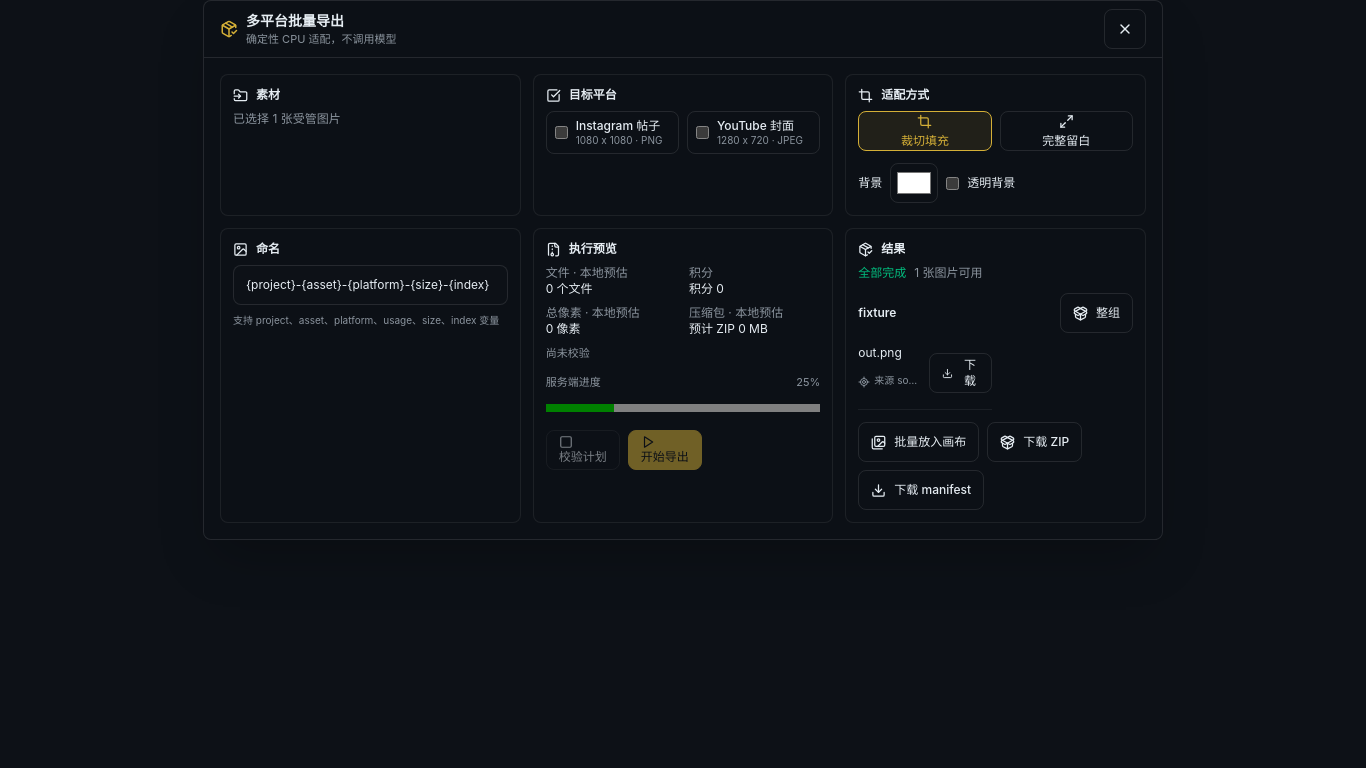
Test case: MultiPlatformExportDrawer › 1397 fix1 actual Drawer source boundary wrong-actor
This screenshot has width=1366, height=768.
Click the button with aria-label "定位来源 source-v". click: (890, 381)
box: [858, 361, 921, 401]
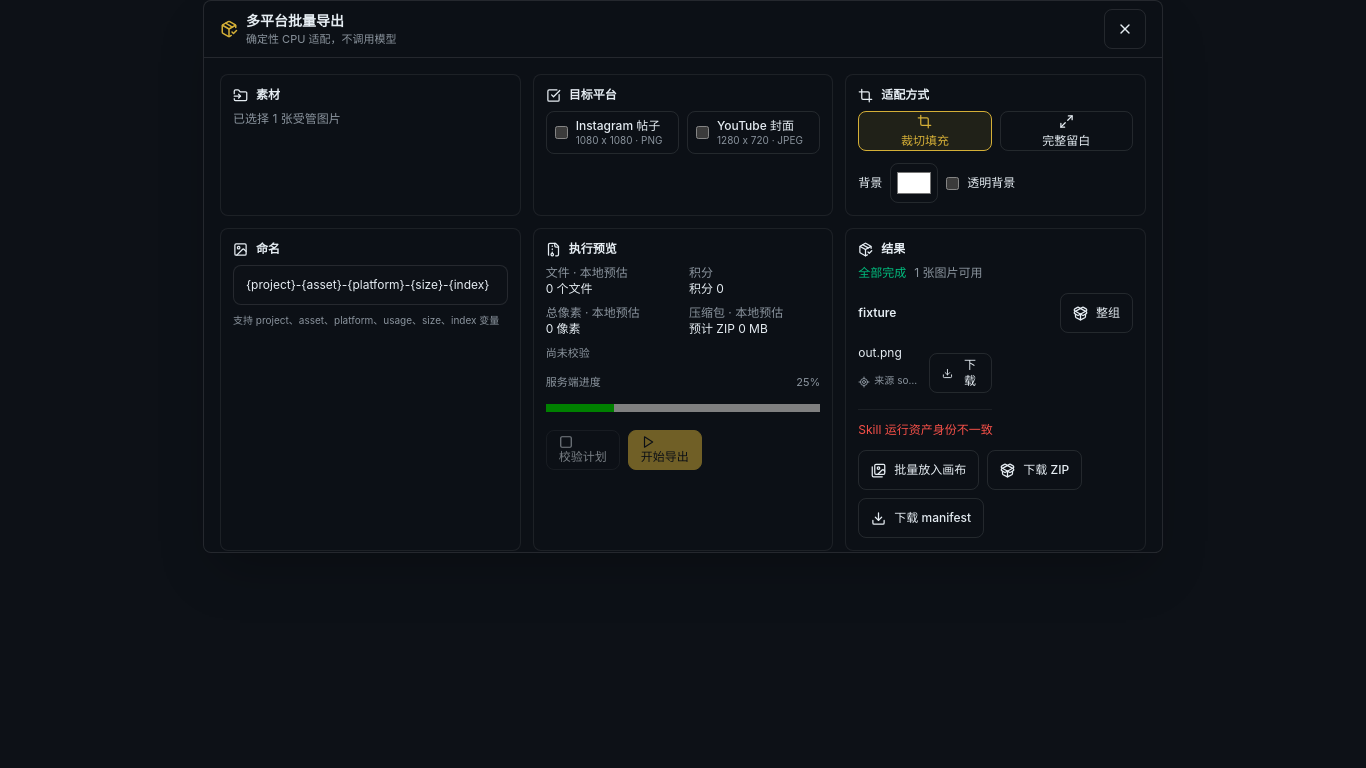
Check: the message "Skill 运行资产身份不一致" is shown, box [858, 422, 993, 437]
